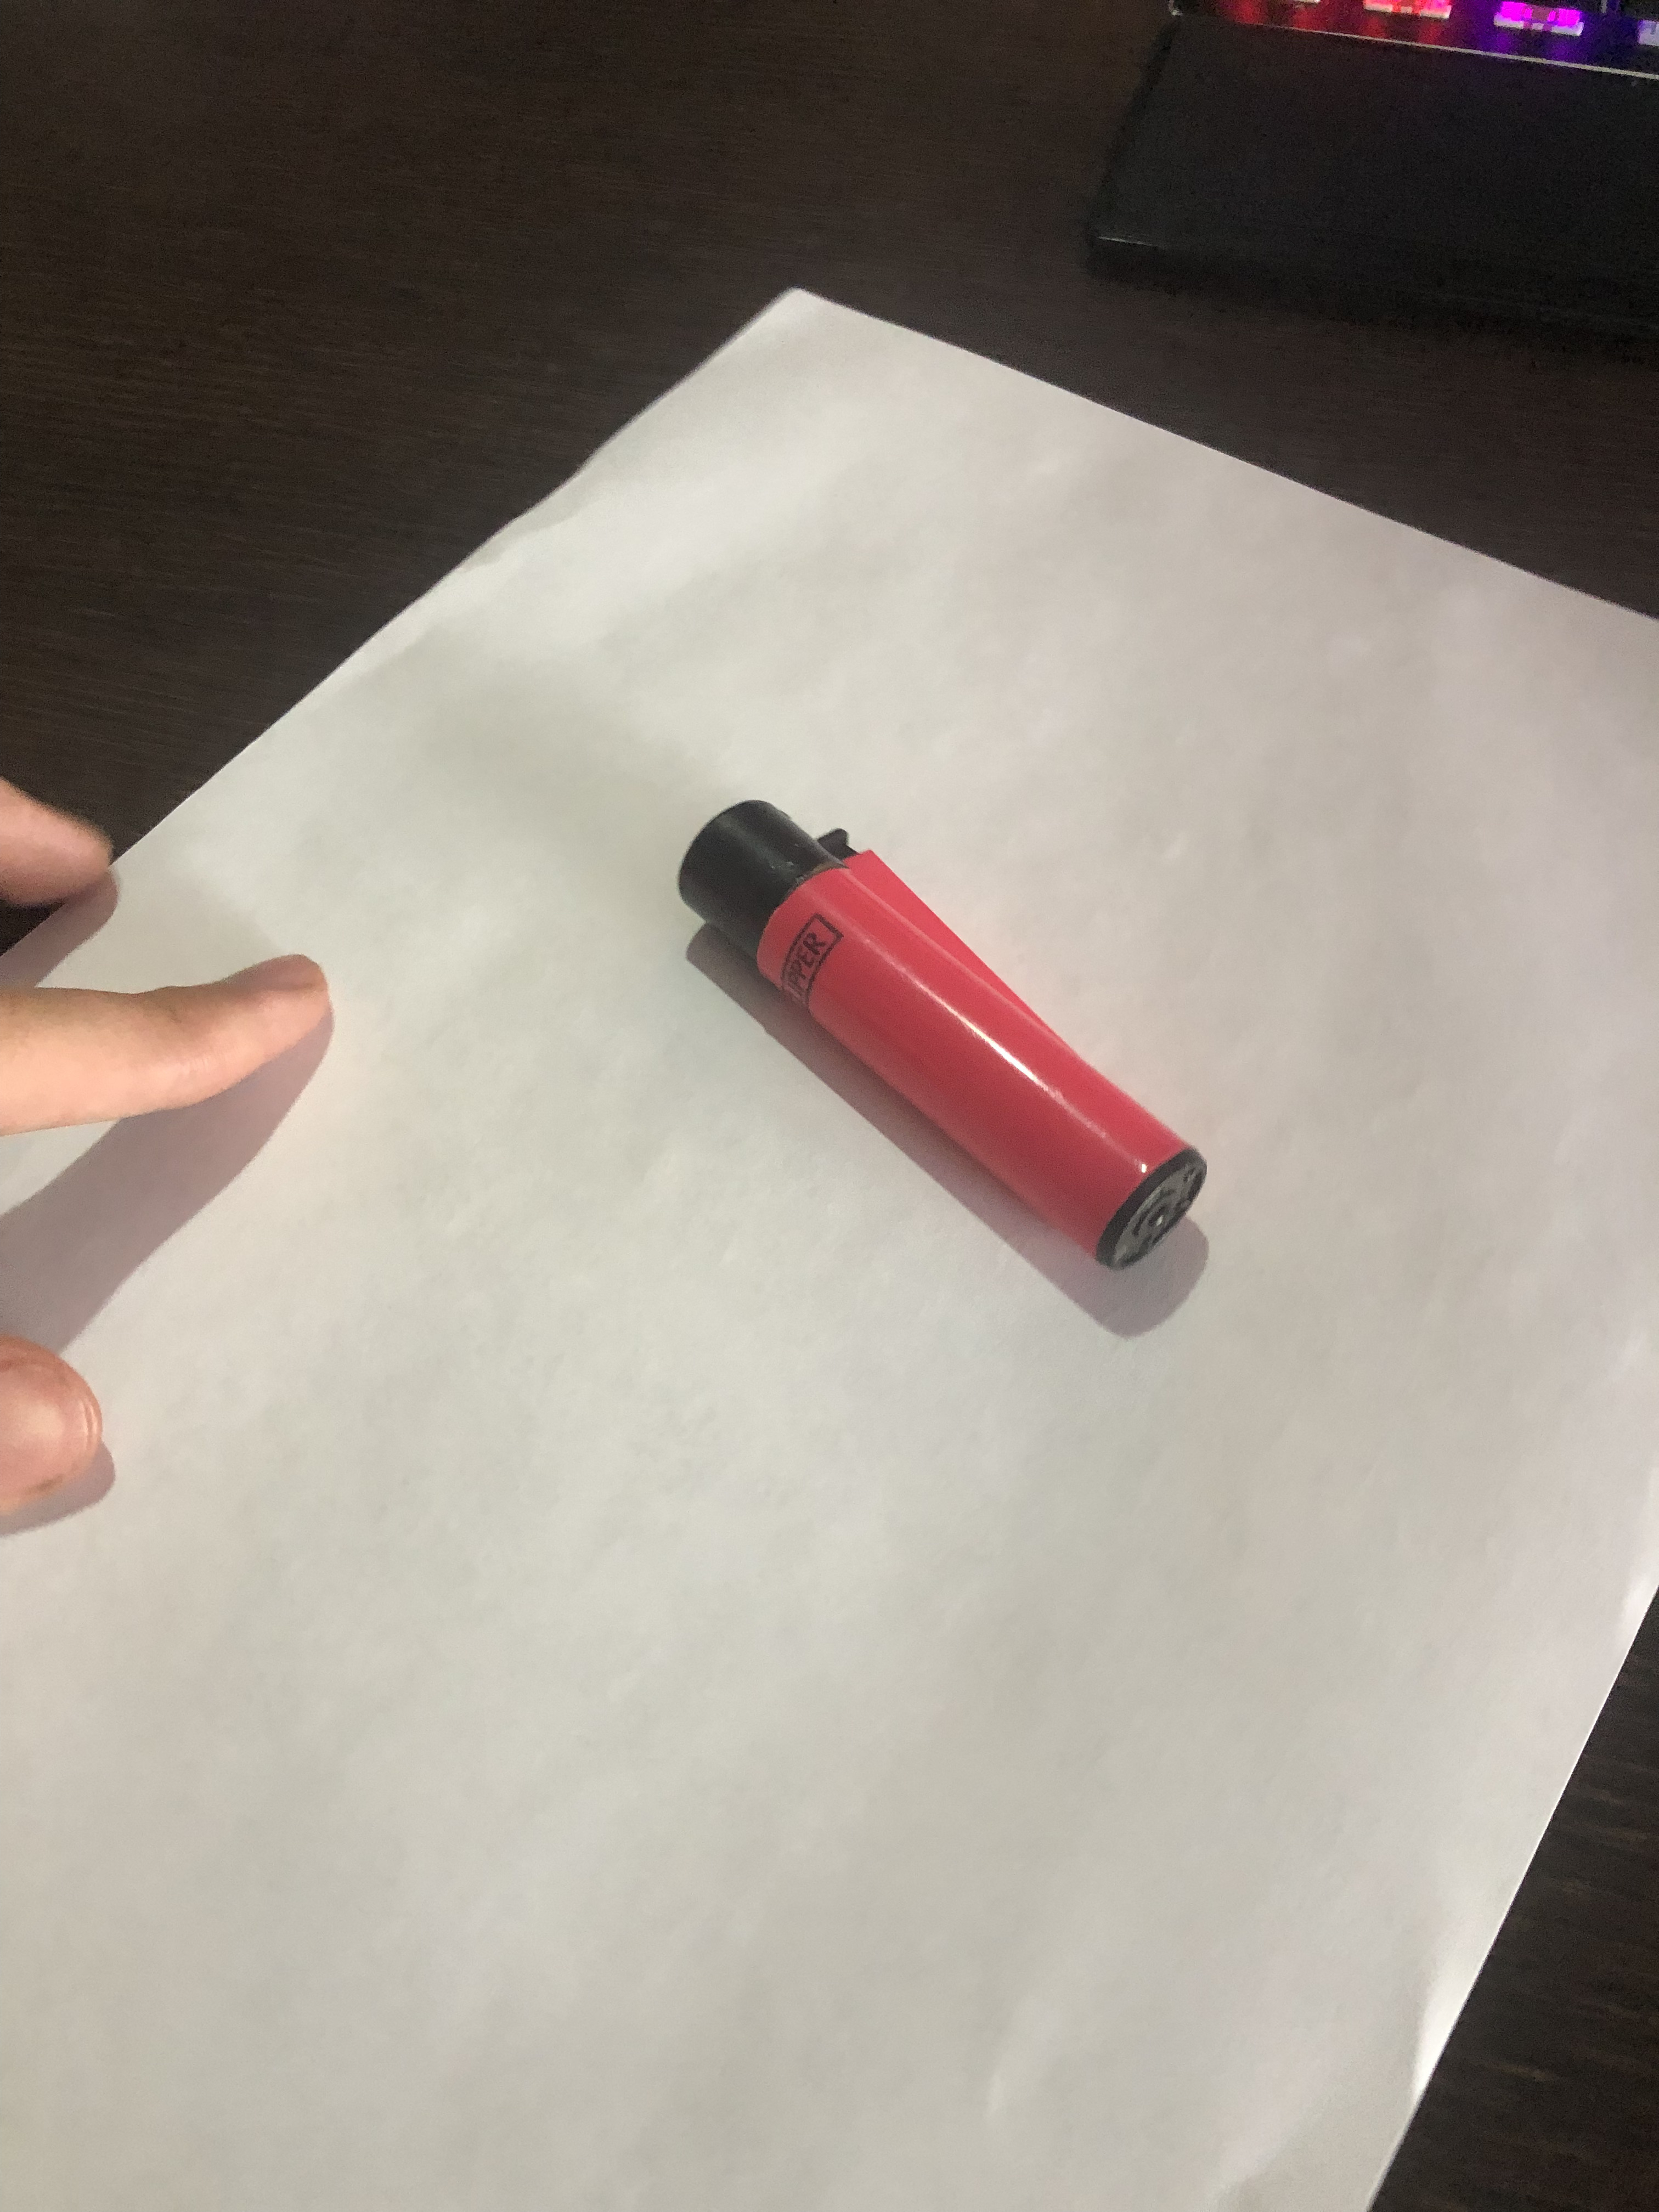Mechero: (652, 775, 1225, 1287)
